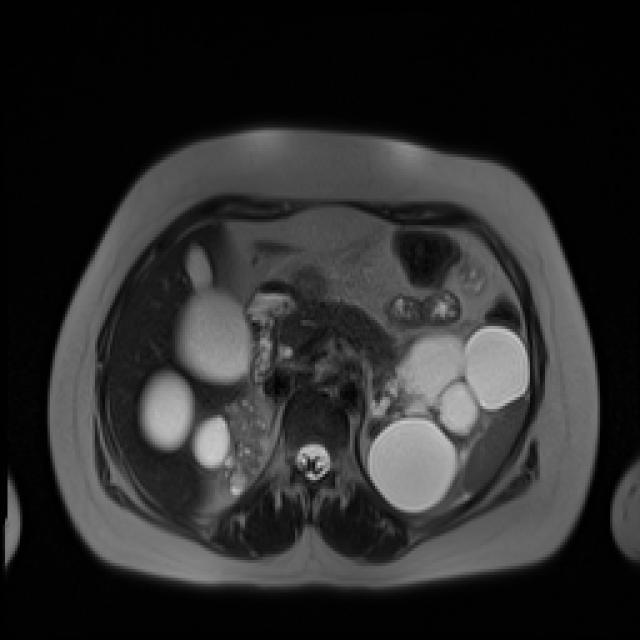sag: (189, 392, 276, 508), (173, 291, 254, 382), (137, 369, 194, 453)
sol: (367, 321, 531, 513)
